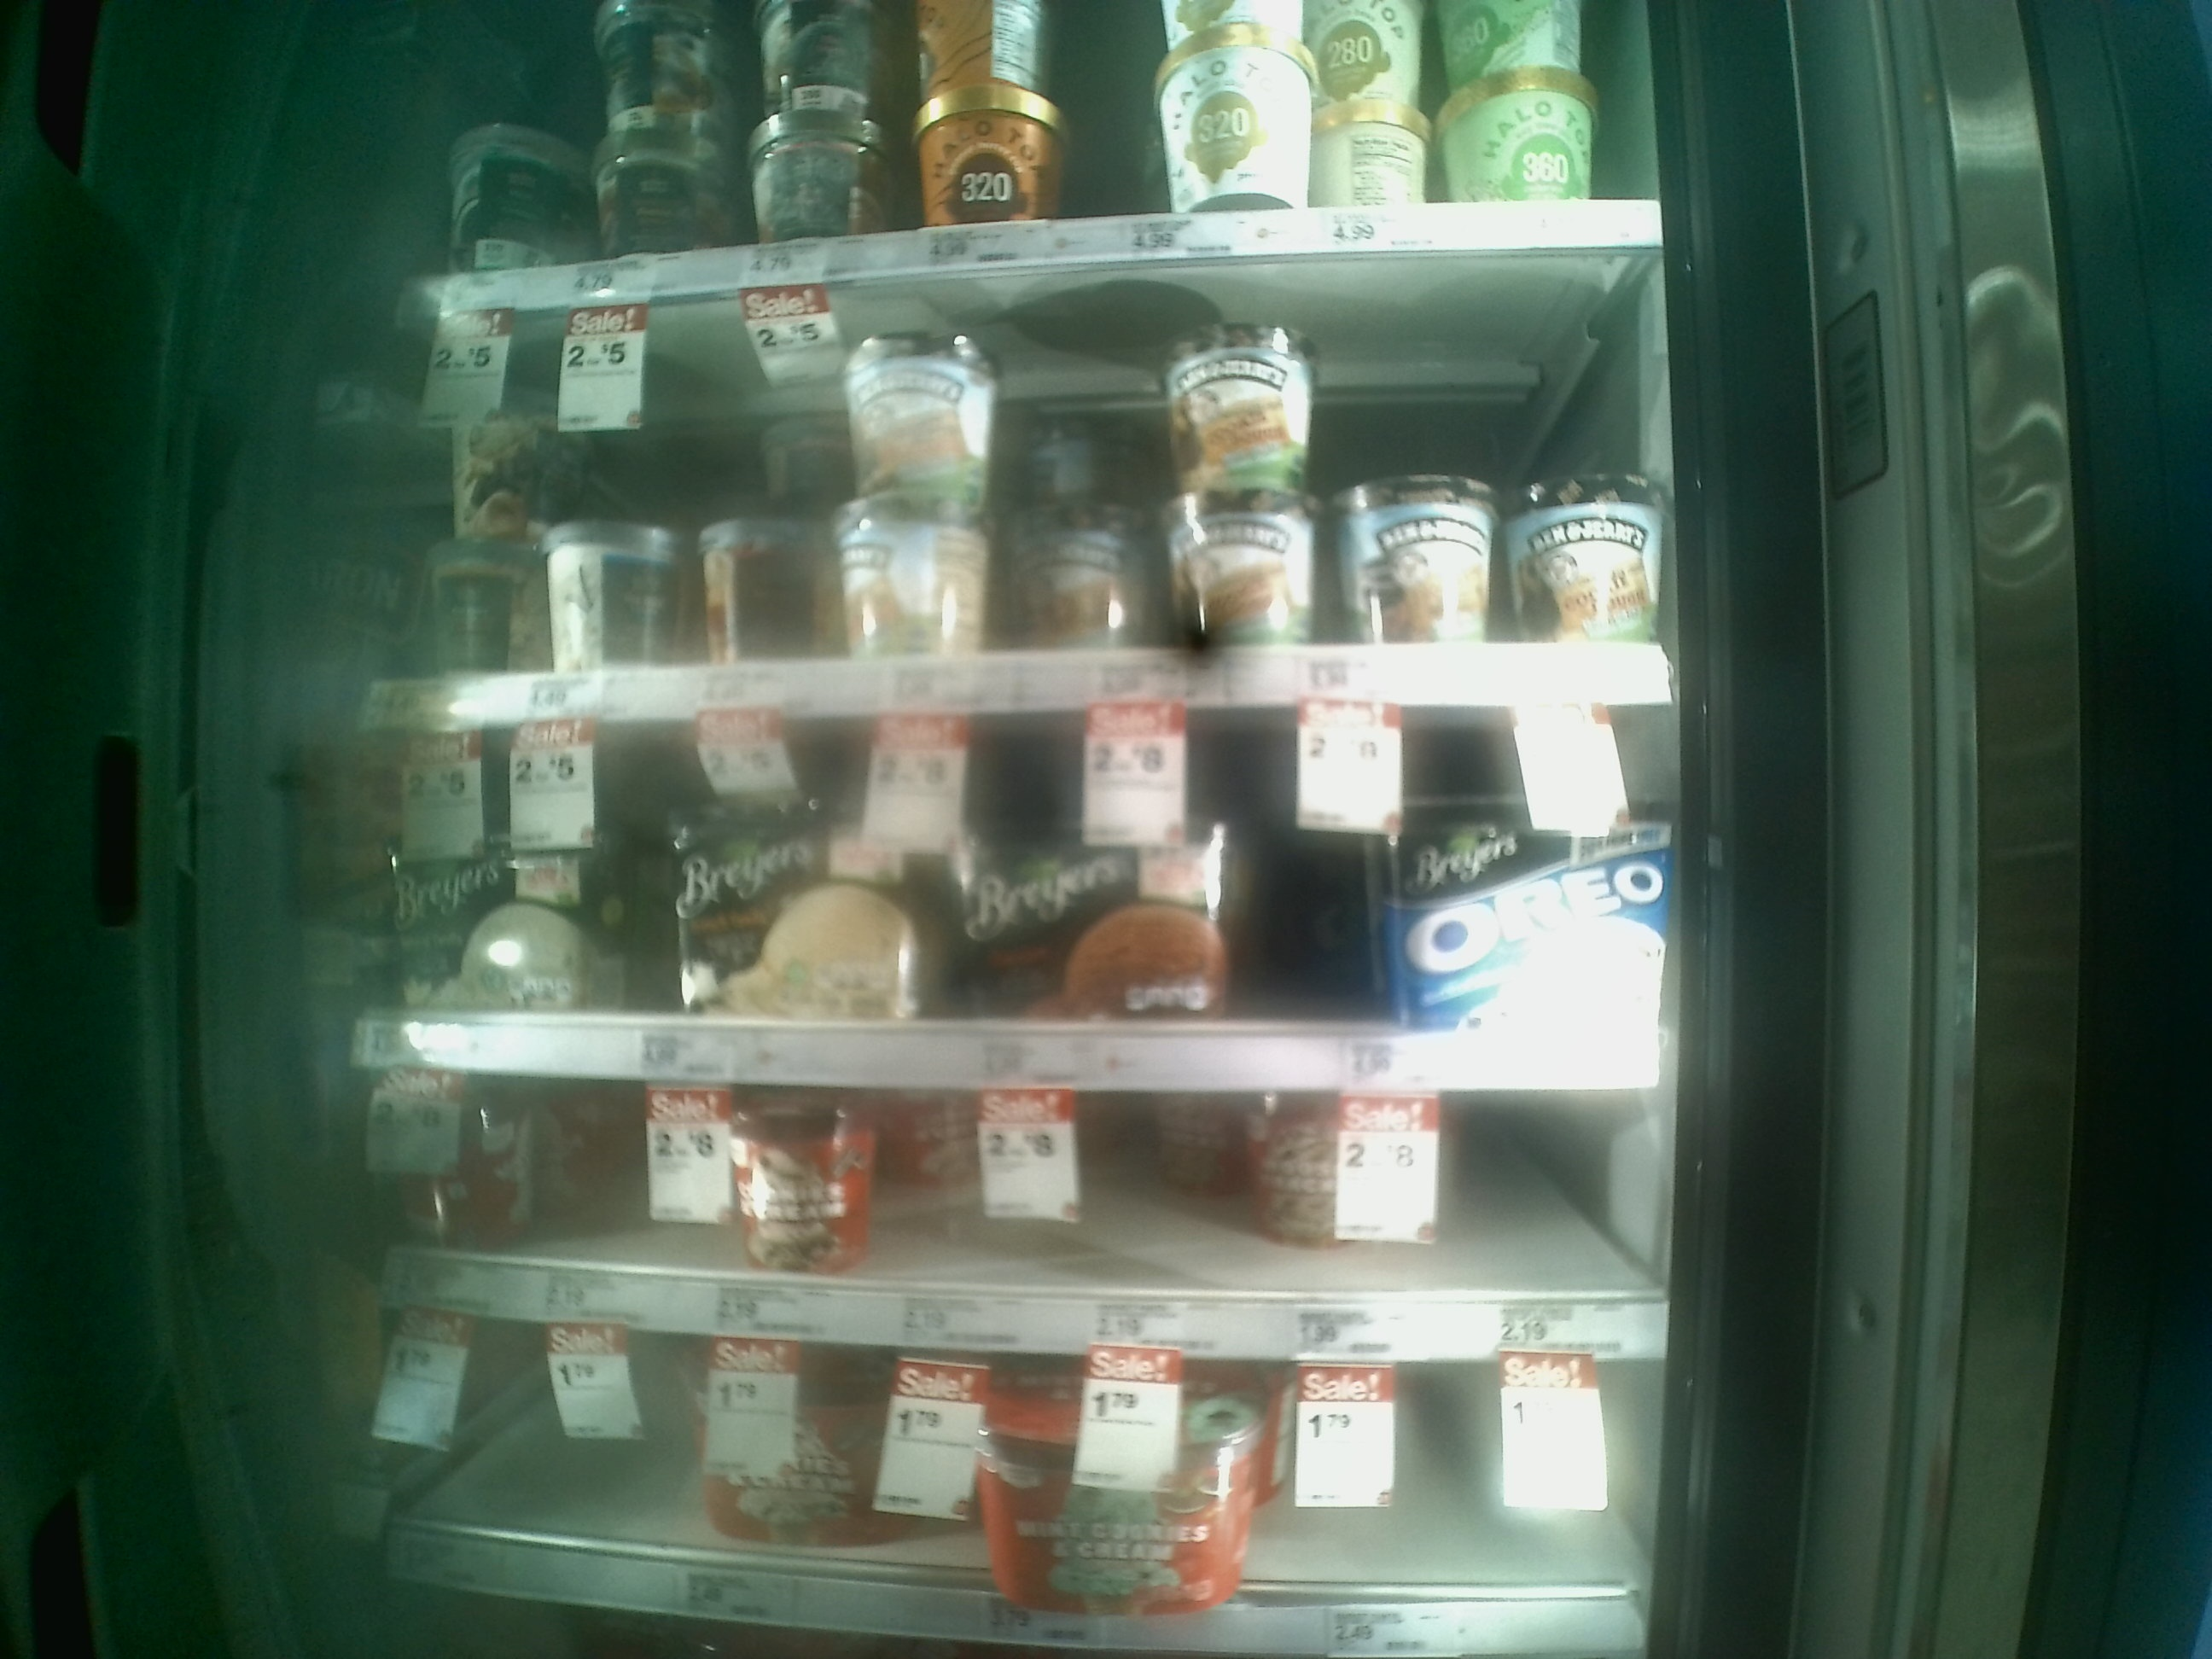ice-cream-shelf: (425, 251, 1674, 718), (369, 708, 1679, 1089), (369, 1351, 1674, 1659), (354, 1093, 1684, 1361)
